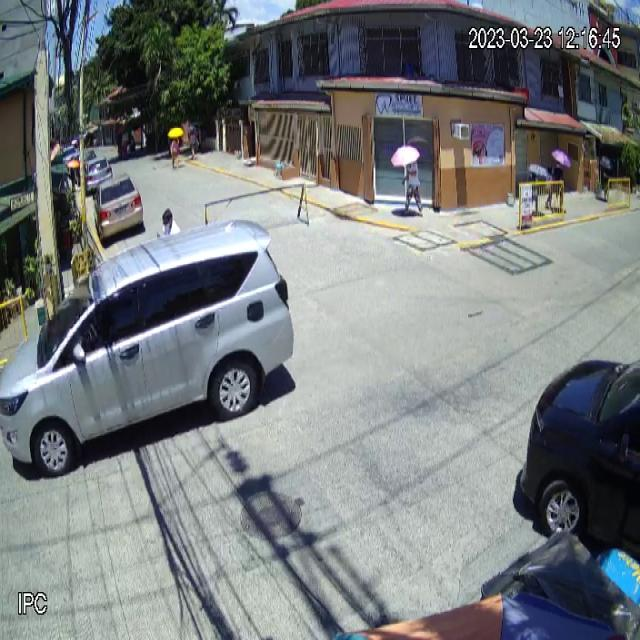Car: (0, 219, 295, 479)
